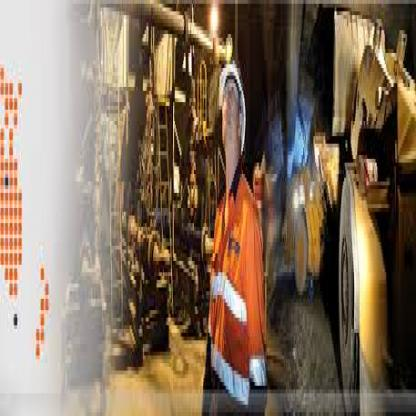person: (188, 38, 285, 408)
